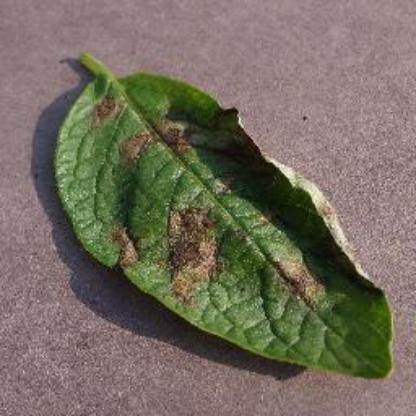Late-Blight: (34, 41, 404, 396)
